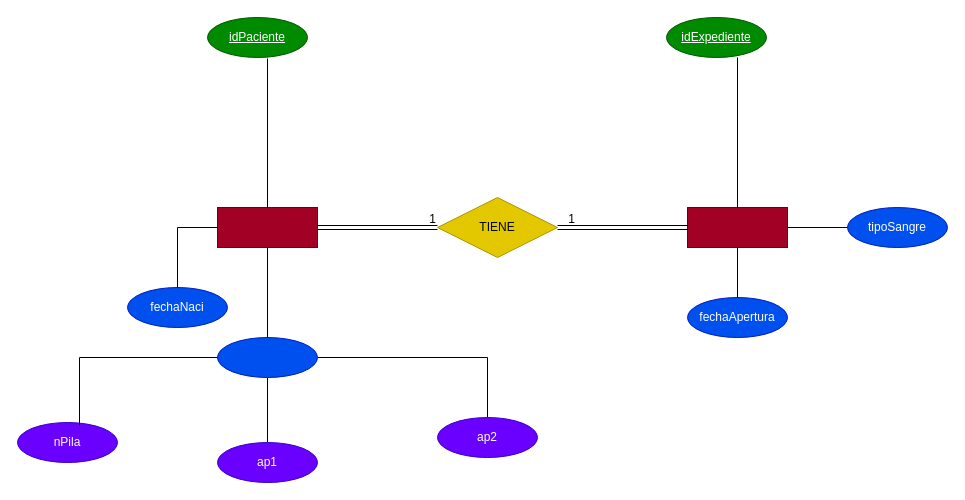
Image size: 965x500. Some labels were removed from this diagram. Each missing label, with the box of its shape:
EXPEDIENTE: (686, 206, 788, 248)
nombre: (216, 336, 318, 378)
PACIENTE: (216, 206, 318, 248)
